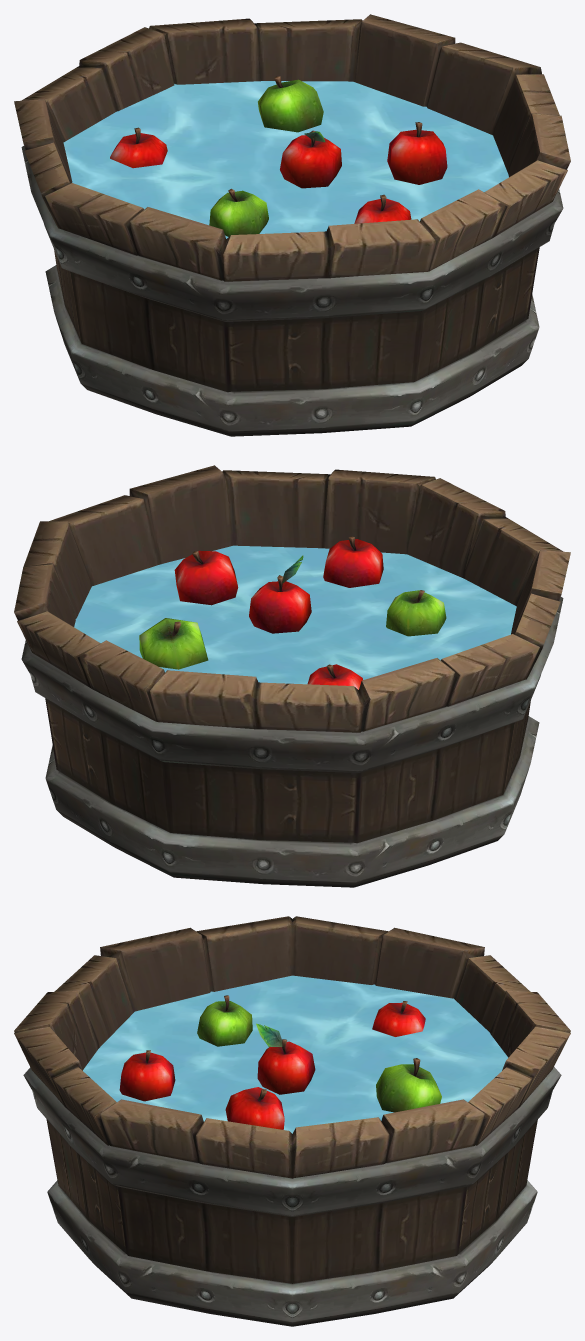
3 views of the same model, one above another, from view 1: azimuth 30°, elevation 25°; view 2: azimuth 150°, elevation 25°; view 3: azimuth 270°, elevation 25° (orthographic). The views are drawn at different scales.
Size of the model in its own units: 3.08 by 1.29 by 3.09.
3 materials, 3 textured.
